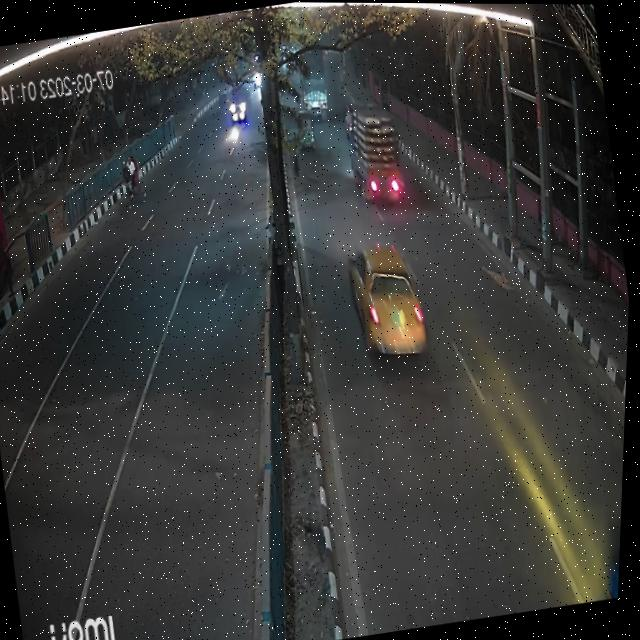rikshaw: (117, 151, 150, 216)
